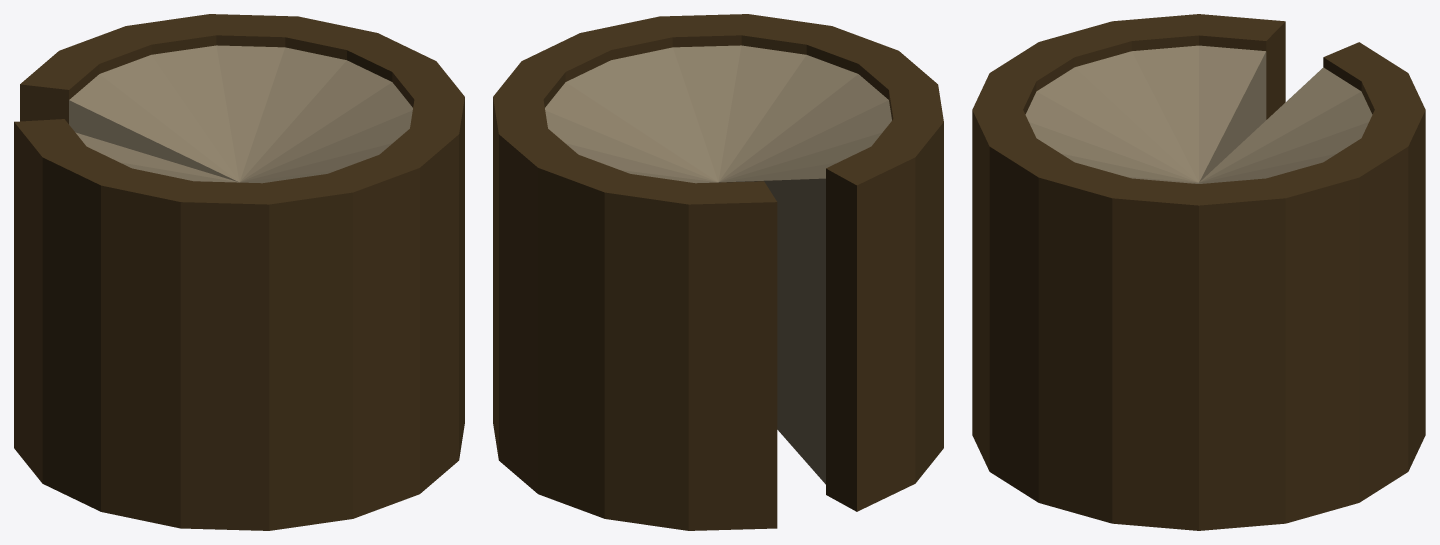
File: leña-cortada2_lowpoly.fbx
3 views of the same model, side by side, from view 1: azimuth 30°, elevation 25°; view 2: azimuth 150°, elevation 25°; view 3: azimuth 270°, elevation 25° (orthographic).
Parts seen in each view (by area): view 1: Cylinder.037; view 2: Cylinder.037; view 3: Cylinder.037.
Part boxes in pixels (box(x1,y1,x2,y2)): Cylinder.037: box(14, 14, 464, 530); Cylinder.037: box(493, 14, 943, 530); Cylinder.037: box(972, 14, 1425, 530).
Bounding box in the file's own units: 200 × 158 × 200.
